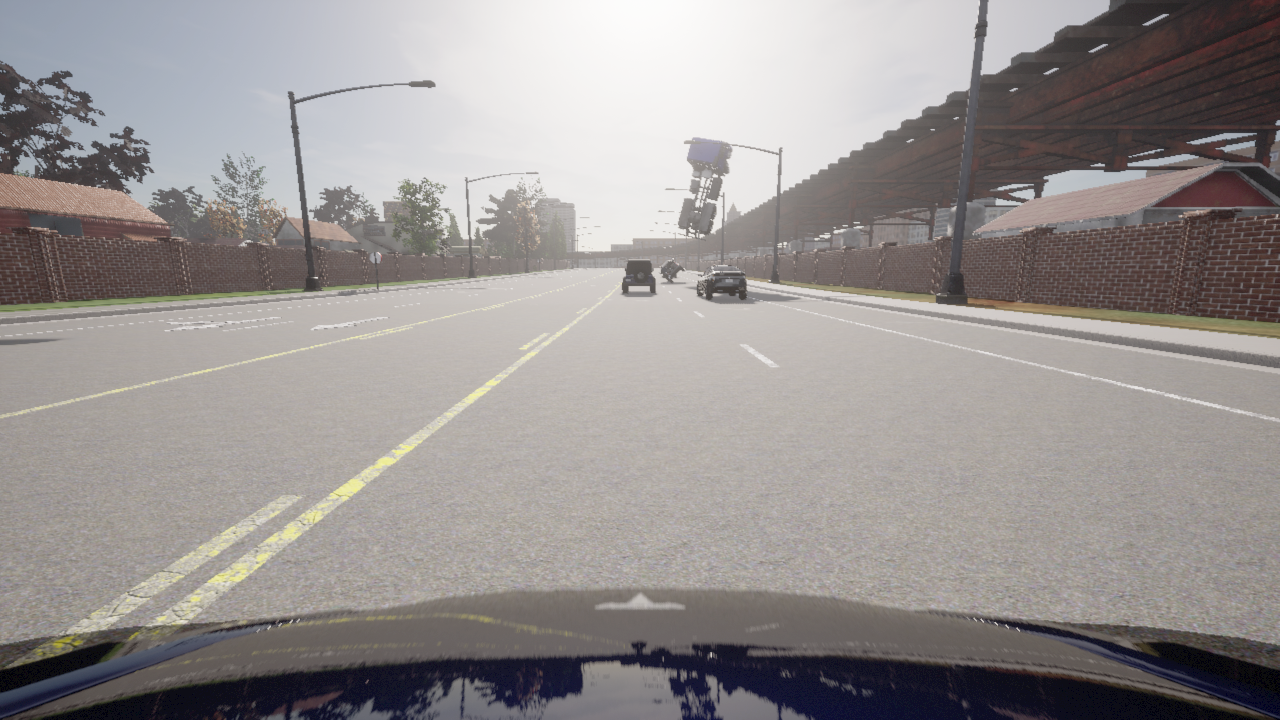cyclist: (0, 588, 1279, 719), (677, 137, 732, 240), (697, 265, 746, 299), (622, 260, 655, 293), (662, 259, 684, 282), (662, 272, 671, 281), (661, 274, 676, 277)
